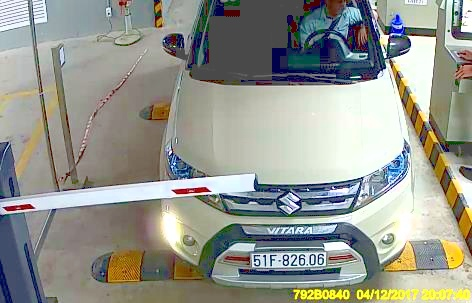plate: (249, 243, 327, 272)
